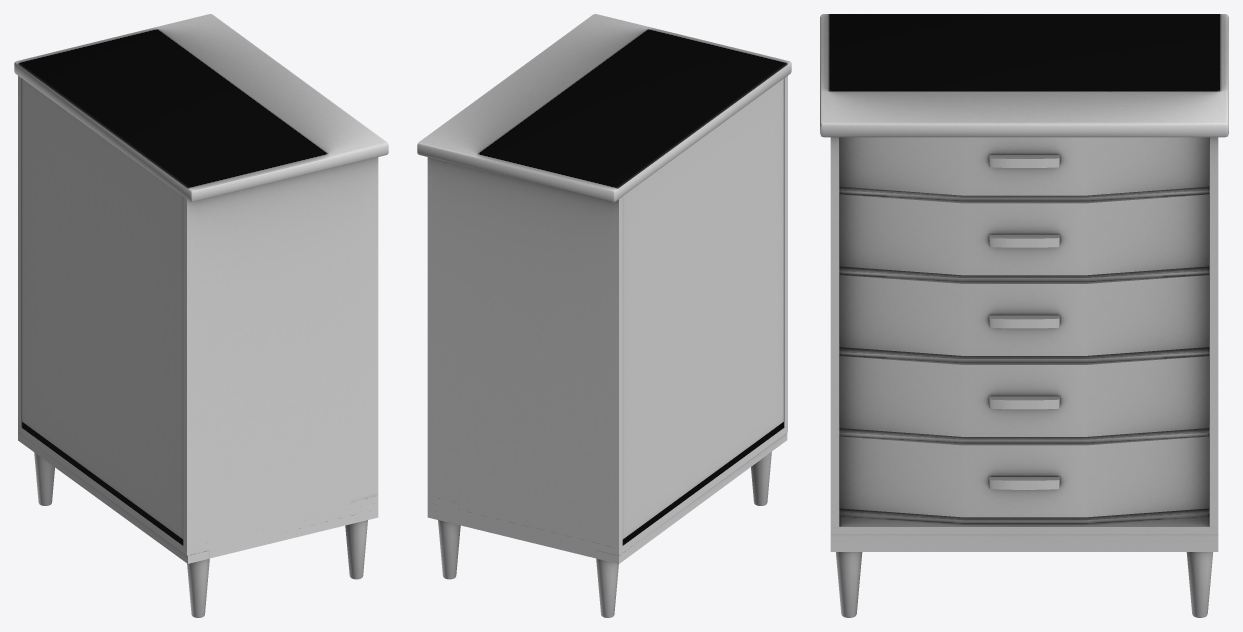
The model's file is Etagere_Rouge.fbx.
3 renders of one model, left to right at view 1: azimuth 30°, elevation 25°; view 2: azimuth 150°, elevation 25°; view 3: azimuth 270°, elevation 25°, orthographic. The views are drawn at different scales.
Parts seen in each view (by area): view 1: polySurface16, polySurface12, polySurface13, polySurface11, polySurface10, polySurface15, polySurface7, polySurface20, polySurface17, polySurface18; view 2: polySurface15, polySurface12, polySurface13, polySurface11, polySurface10, polySurface16, polySurface9, polySurface19, polySurface18, polySurface17; view 3: polySurface13, pasted__pasted__pasted__polySurface25, polySurface25, pasted__pasted__polySurface25, pasted__polySurface25, pasted__pasted__pasted__pasted__polySurface25, polySurface14, polySurface16, polySurface15, polySurface8, polySurface11, polySurface22 (+11 smaller).
Boxes of the visible parts, left/top/right/bottom form: polySurface16: left=183, top=157, right=378, bottom=548; polySurface12: left=22, top=78, right=183, bottom=539; polySurface13: left=14, top=14, right=388, bottom=202; polySurface11: left=18, top=425, right=378, bottom=555; polySurface10: left=18, top=432, right=208, bottom=563; polySurface15: left=18, top=76, right=27, bottom=427; polySurface7: left=208, top=514, right=357, bottom=558; polySurface20: left=345, top=520, right=367, bottom=579; polySurface17: left=187, top=558, right=209, bottom=617; polySurface18: left=34, top=452, right=54, bottom=505; polySurface15: left=427, top=157, right=622, bottom=548; polySurface12: left=622, top=78, right=783, bottom=539; polySurface13: left=417, top=14, right=791, bottom=202; polySurface11: left=427, top=425, right=787, bottom=555; polySurface10: left=597, top=433, right=787, bottom=563; polySurface16: left=778, top=76, right=787, bottom=427; polySurface9: left=449, top=514, right=597, bottom=558; polySurface19: left=438, top=520, right=460, bottom=579; polySurface18: left=596, top=558, right=618, bottom=617; polySurface17: left=751, top=452, right=771, bottom=505; polySurface13: left=820, top=14, right=1228, bottom=137; pasted__pasted__pasted__polySurface25: left=839, top=194, right=1209, bottom=275; polySurface25: left=839, top=436, right=1209, bottom=517; pasted__pasted__polySurface25: left=839, top=274, right=1209, bottom=355; pasted__polySurface25: left=839, top=355, right=1209, bottom=436; pasted__pasted__pasted__pasted__polySurface25: left=839, top=137, right=1209, bottom=195; polySurface14: left=830, top=516, right=1218, bottom=533; polySurface16: left=830, top=137, right=839, bottom=526; polySurface15: left=1209, top=137, right=1218, bottom=526; polySurface8: left=830, top=542, right=1218, bottom=551; polySurface11: left=830, top=436, right=1218, bottom=542; polySurface22: left=839, top=343, right=1209, bottom=362.
Bounding box in the file's own units: 2.08 × 4.38 × 3.22.
